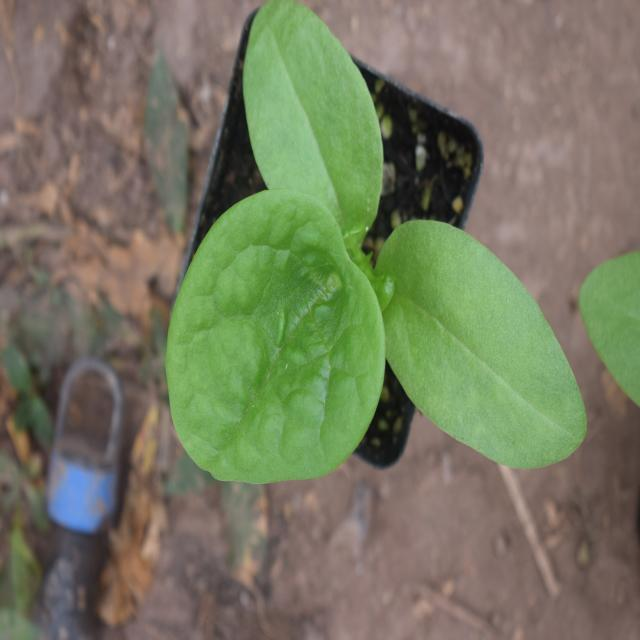Ceylon spinach: (150, 23, 580, 478)
